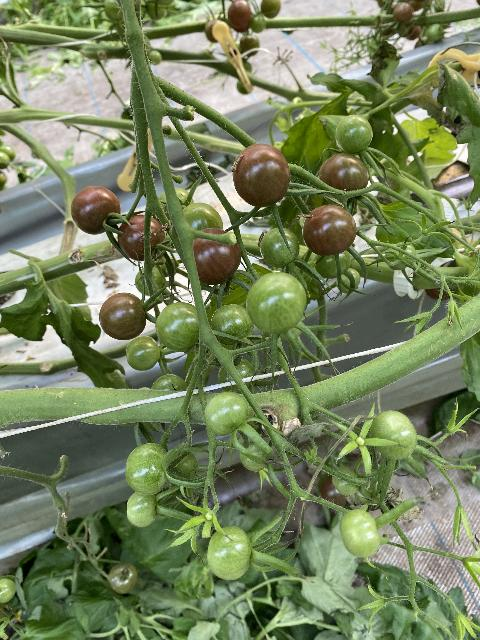l_fully_ripened: (193, 227, 242, 285), (118, 214, 165, 261)
l_green: (245, 271, 307, 334), (368, 410, 418, 461), (207, 526, 251, 580), (125, 442, 169, 495), (155, 302, 200, 352), (204, 391, 250, 436), (339, 509, 381, 558), (211, 305, 254, 346), (260, 227, 300, 268), (335, 114, 372, 155), (218, 358, 258, 394), (158, 189, 195, 222), (126, 336, 160, 371), (182, 202, 223, 230), (313, 250, 352, 278), (127, 491, 156, 527), (134, 266, 165, 297), (384, 241, 416, 271), (240, 441, 268, 472), (332, 467, 361, 495), (171, 453, 197, 482), (150, 374, 189, 392), (337, 268, 361, 293)
l_half_ripened: (232, 143, 290, 207), (302, 204, 357, 256), (70, 185, 121, 235), (98, 293, 147, 340), (317, 152, 370, 191)
